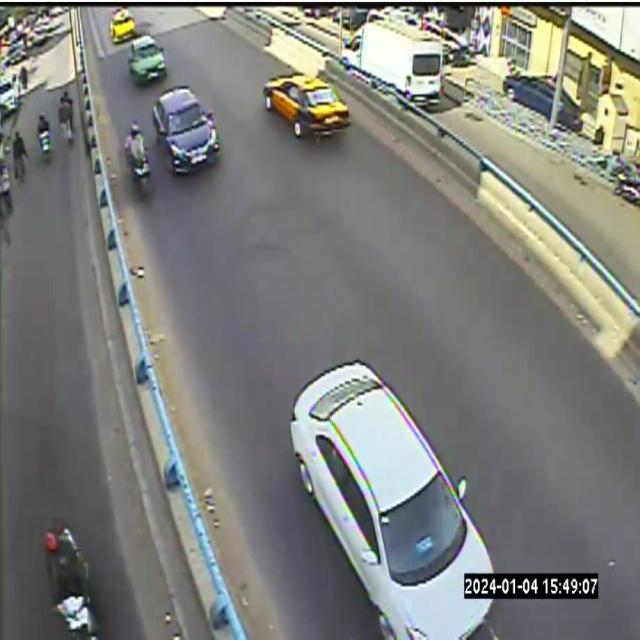car: (290, 362, 493, 639), (152, 86, 219, 173), (291, 101, 350, 136), (128, 37, 166, 85), (109, 8, 136, 43)
